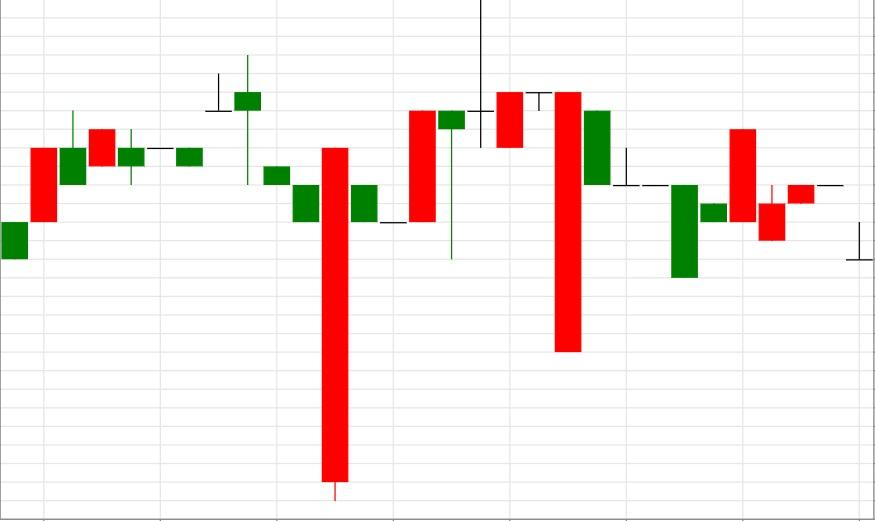bullish_engulfing_rise: (554, 92, 758, 353), (234, 56, 350, 501)
hanging_man_fall: (350, 109, 466, 259)
